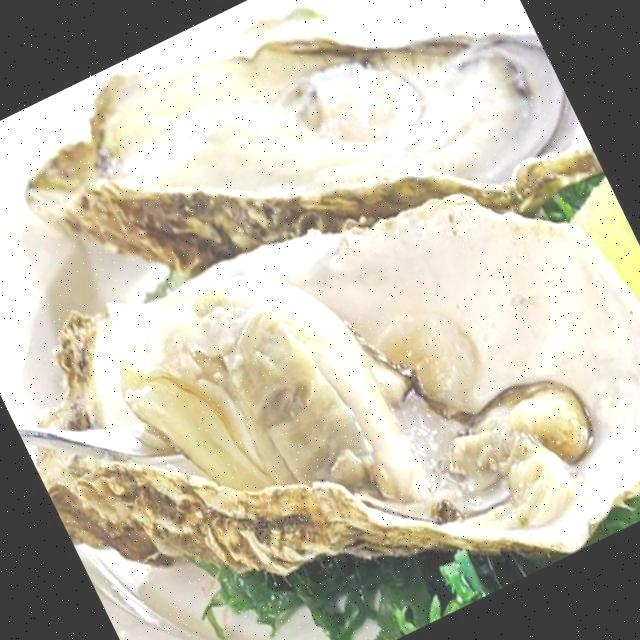Oyster-Open: (3, 186, 640, 614), (2, 0, 606, 291)
